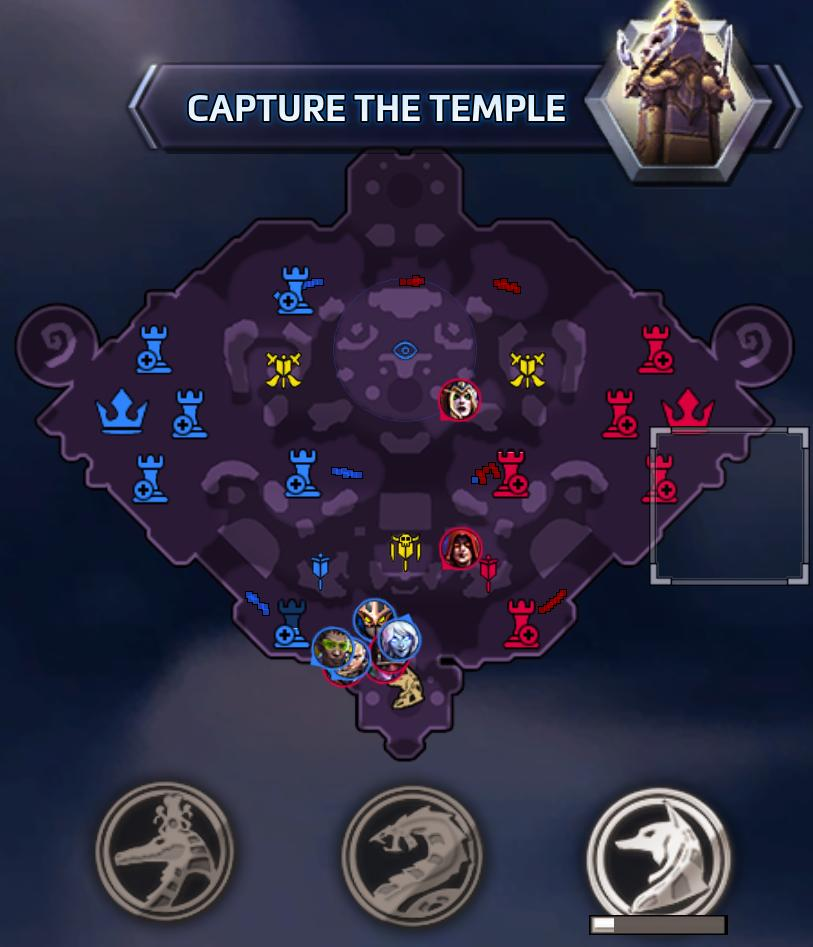blue nexus: (93, 385, 150, 435)
blue player: (374, 615, 420, 663), (311, 626, 357, 669), (353, 598, 395, 639)
blue tower: (272, 263, 316, 316), (130, 451, 170, 504), (282, 446, 322, 498), (170, 387, 209, 439), (134, 323, 173, 374)
red nexus: (660, 386, 716, 433)
red player: (439, 526, 482, 571), (438, 378, 481, 423), (365, 651, 407, 686)
red tower: (599, 387, 639, 439), (636, 323, 674, 376), (641, 450, 678, 504)
